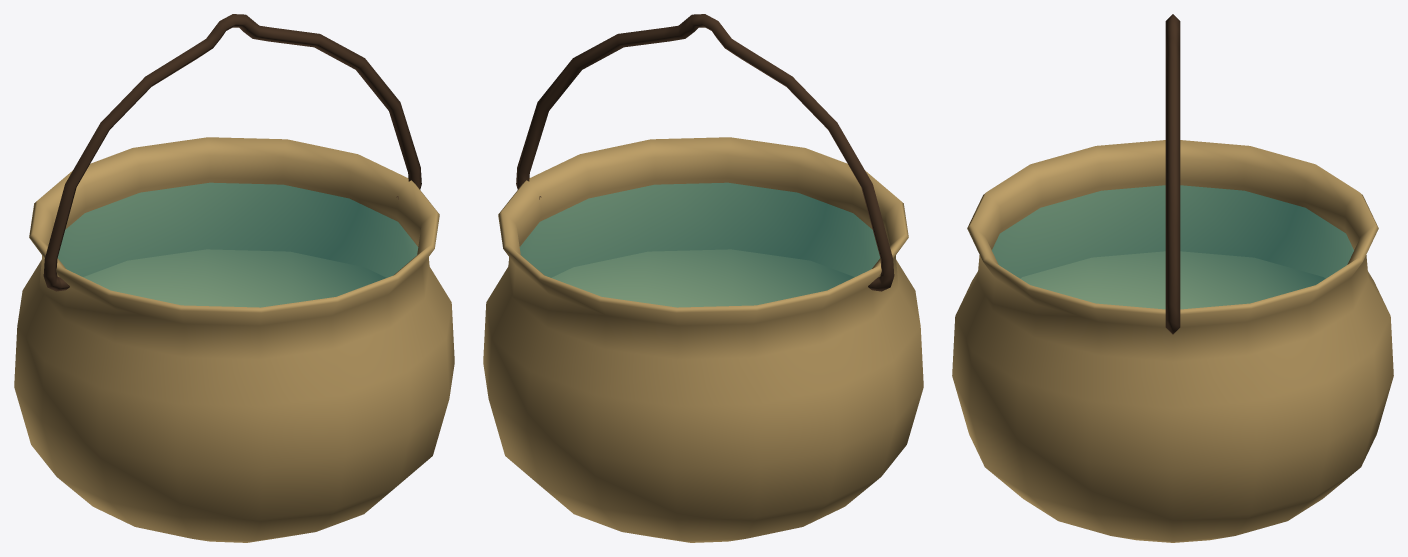
File: cauldron_full.gltf
3 renders of one model, left to right at view 1: azimuth 30°, elevation 25°; view 2: azimuth 150°, elevation 25°; view 3: azimuth 270°, elevation 25°, orthographic.
Visible parts, largest first — view 1: Cauldron_Full; view 2: Cauldron_Full; view 3: Cauldron_Full.
Part boxes in pixels (left/top/right/bottom): Cauldron_Full: left=14, top=14, right=454, bottom=542; Cauldron_Full: left=483, top=14, right=923, bottom=542; Cauldron_Full: left=952, top=14, right=1393, bottom=542.
Bounding box in the file's own units: 0.832 × 1.03 × 0.832.
Materials: 3 (3 with a texture image).
